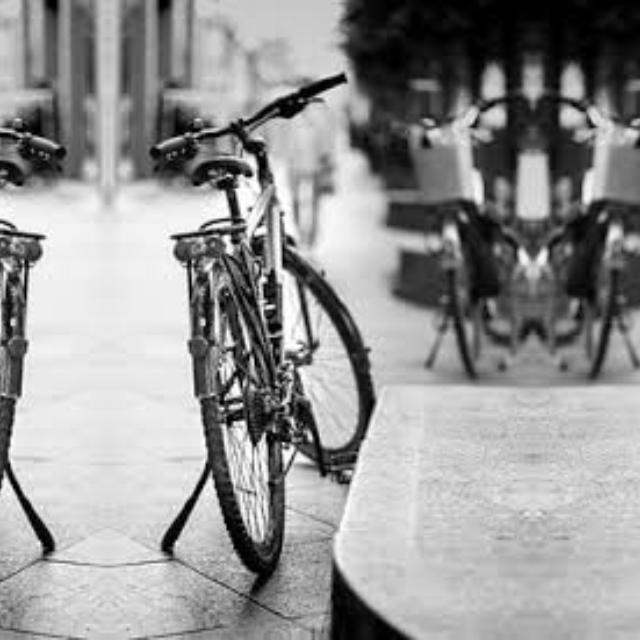obstacle: (118, 97, 410, 568), (0, 97, 96, 568)
